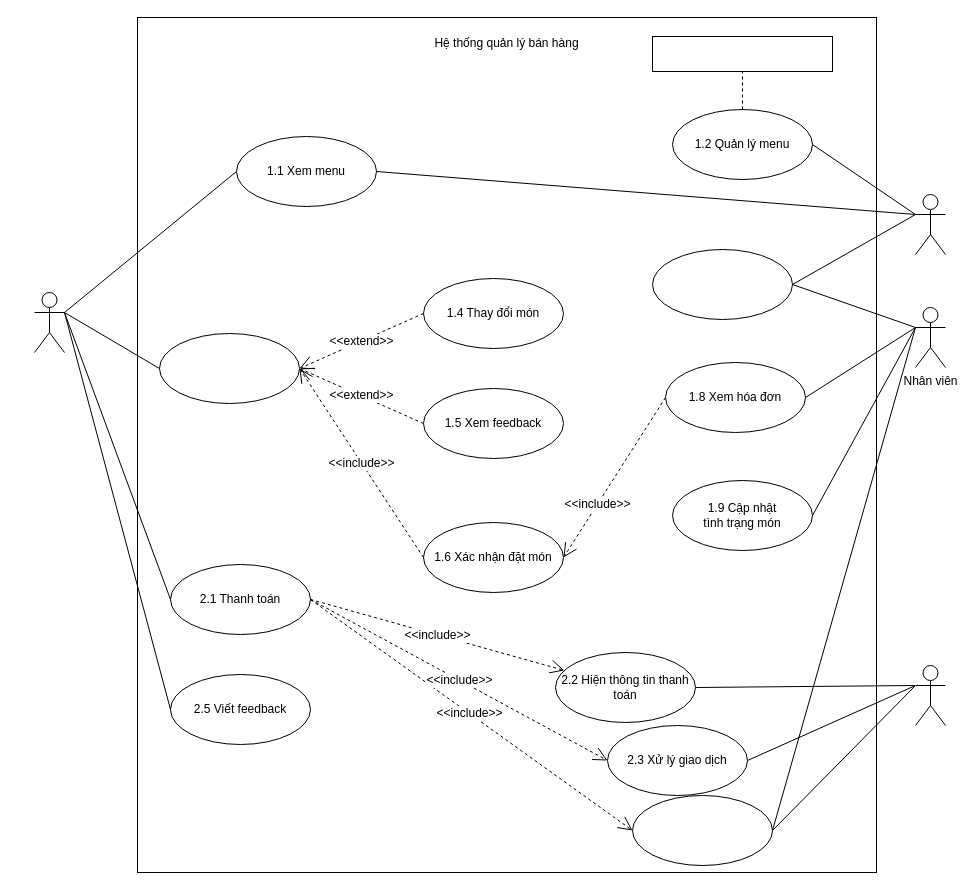
Some shapes in this 976 by 890 pixel diagram are drawn without their labels. Each missing label, with the centre of its shape:
1.3 Đặt món: the point at 229,368
1.7 Đăng nhập: the point at 722,284
2.4 Xác nhận thanh toán: the point at 702,830
Hệ thống thanh toán: the point at 930,695
Khách hàng: the point at 49,322
Quản lý: the point at 930,224
Thêm/Sửa/Xóa: the point at 742,54
